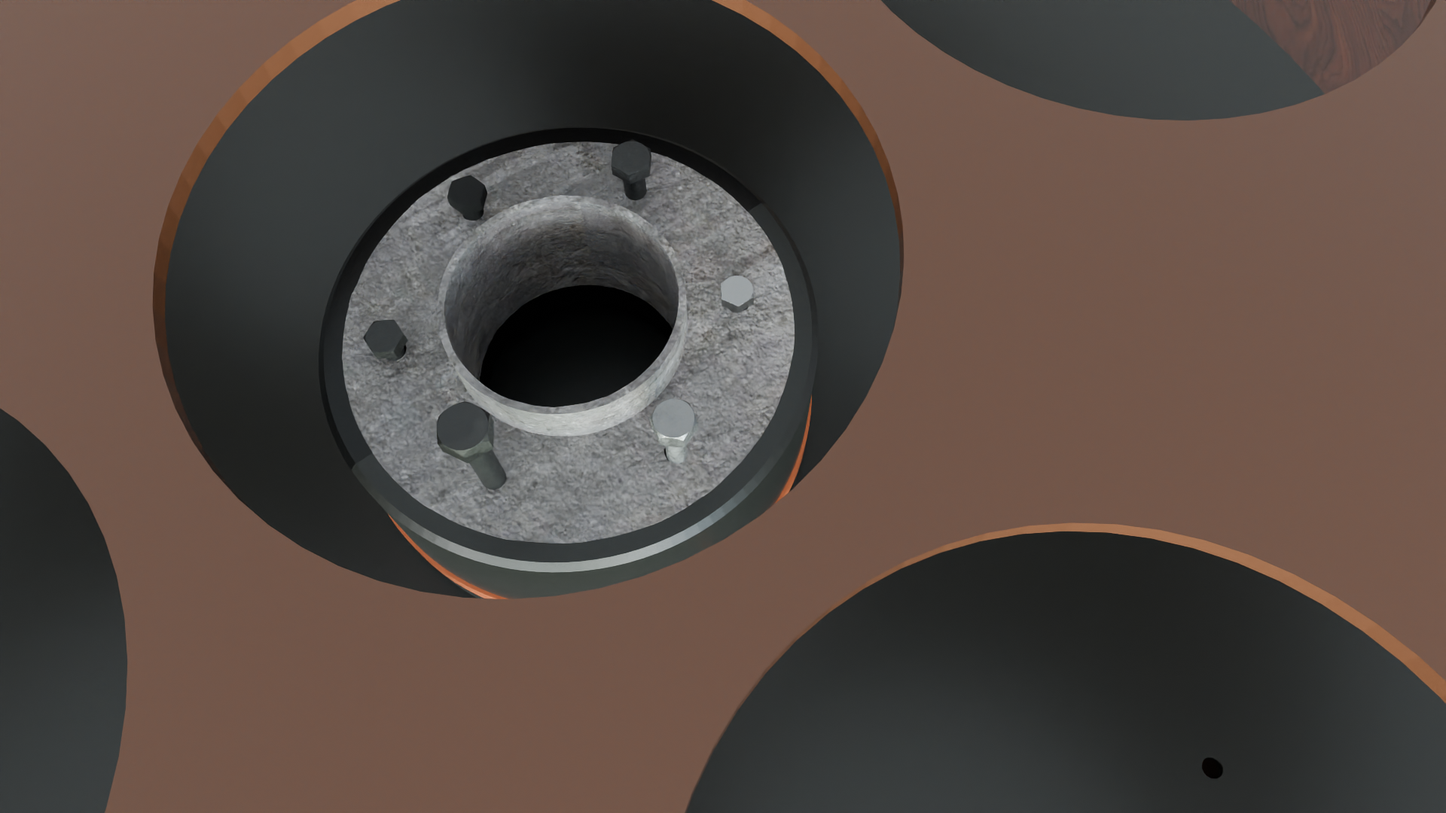bolt: (437, 401, 490, 456), (650, 399, 698, 441), (611, 139, 651, 175), (363, 320, 404, 353), (447, 175, 485, 208), (721, 274, 754, 307)
